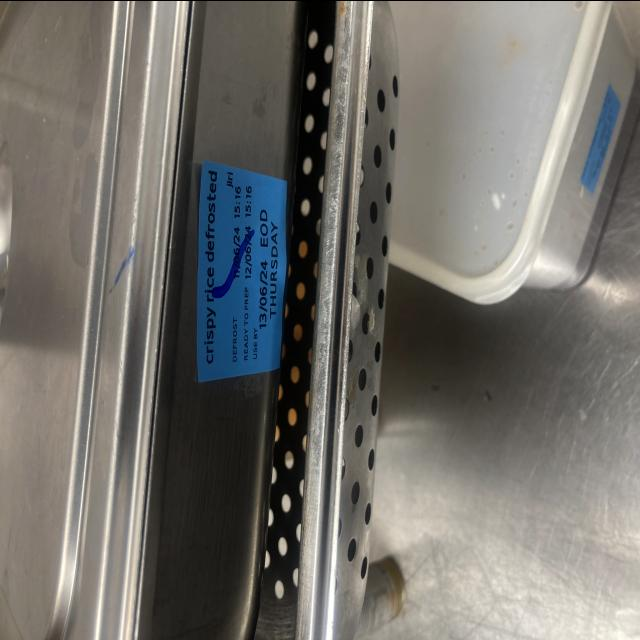product-labels: (196, 155, 291, 383)
